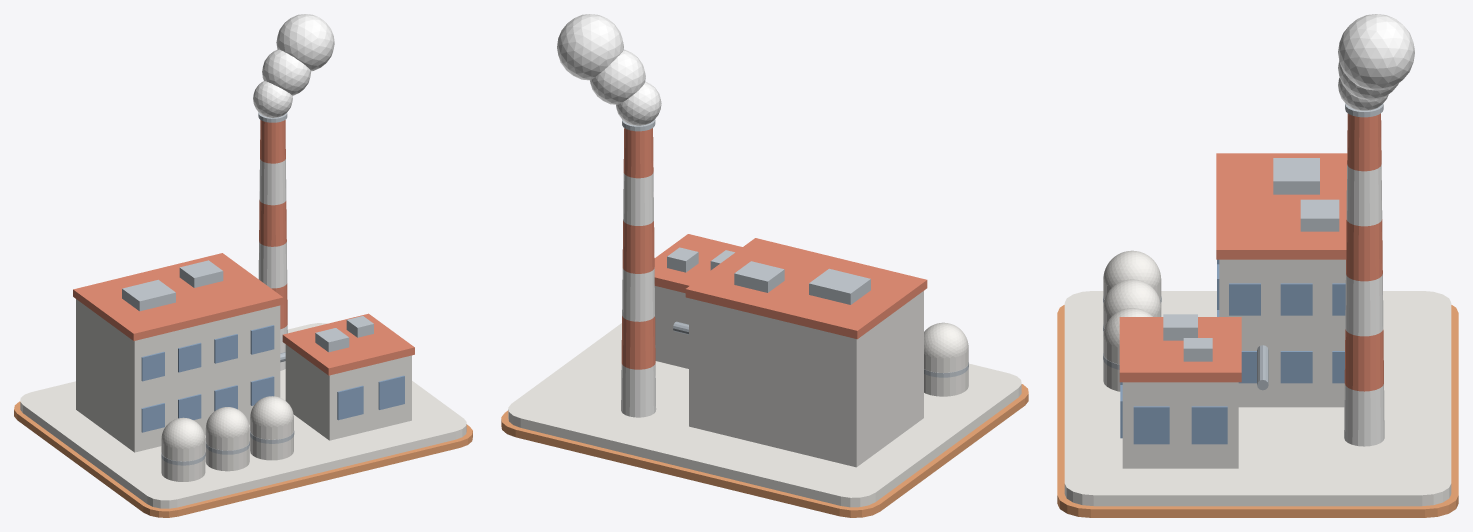
Rendered from gas.glb.
The picture shows the model from 3 angles, left to right: view 1: azimuth 30°, elevation 25°; view 2: azimuth 150°, elevation 25°; view 3: azimuth 270°, elevation 25°; orthographic projection. The views are drawn at different scales.
Visible parts, largest first — view 1: concrete, base, red, tank, window, steam, rim_e5672f, metal, white; view 2: concrete, base, red, steam, rim_e5672f, white, metal, tank; view 3: base, red, concrete, rim_e5672f, window, white, steam, metal, tank, pipe.
Part boxes in pixels (x1=…): concrete: x1=76, y1=299, x2=411, y2=452; base: x1=20, y1=323, x2=466, y2=508; red: x1=73, y1=120, x2=414, y2=375; tank: x1=161, y1=396, x2=293, y2=481; window: x1=141, y1=325, x2=404, y2=432; steam: x1=253, y1=14, x2=334, y2=117; rim_e5672f: x1=14, y1=401, x2=472, y2=517; metal: x1=122, y1=112, x2=373, y2=465; white: x1=258, y1=159, x2=287, y2=370; concrete: x1=654, y1=286, x2=923, y2=467; base: x1=508, y1=323, x2=1021, y2=507; red: x1=621, y1=128, x2=927, y2=369; steam: x1=557, y1=14, x2=661, y2=125; rim_e5672f: x1=501, y1=384, x2=1028, y2=517; white: x1=621, y1=172, x2=656, y2=417; metal: x1=622, y1=119, x2=968, y2=377; tank: x1=924, y1=322, x2=968, y2=396; base: x1=1064, y1=291, x2=1451, y2=506; red: x1=1119, y1=113, x2=1383, y2=391; concrete: x1=1122, y1=259, x2=1345, y2=468; rim_e5672f: x1=1057, y1=305, x2=1458, y2=517; window: x1=1120, y1=259, x2=1345, y2=444; white: x1=1344, y1=164, x2=1384, y2=446; steam: x1=1338, y1=14, x2=1414, y2=110; metal: x1=1103, y1=103, x2=1383, y2=369; tank: x1=1103, y1=250, x2=1161, y2=391; pipe: x1=1257, y1=345, x2=1268, y2=390.
Bounding box in the file's own units: 10.3 × 10.6 × 8.3.
